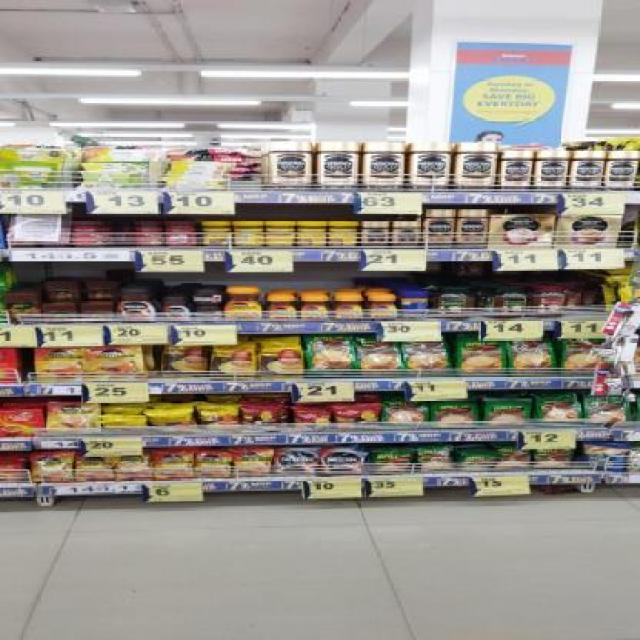Coffee: (269, 140, 314, 191), (455, 142, 497, 190), (318, 140, 359, 189), (364, 141, 404, 190), (33, 347, 84, 382), (90, 347, 142, 381), (413, 142, 449, 190), (46, 403, 99, 434), (570, 150, 605, 192), (223, 286, 262, 322), (118, 287, 157, 322), (499, 151, 532, 192), (607, 150, 639, 192), (534, 150, 566, 190), (458, 209, 487, 248), (321, 448, 364, 474), (31, 454, 71, 481), (278, 448, 317, 475), (425, 210, 453, 247), (153, 452, 192, 478), (77, 454, 114, 481), (197, 452, 232, 478), (236, 451, 270, 477), (117, 454, 151, 480), (366, 294, 397, 320), (362, 220, 390, 248), (162, 294, 189, 321), (267, 295, 296, 320), (334, 295, 363, 320), (300, 295, 329, 320), (393, 221, 419, 248), (193, 290, 222, 305), (194, 307, 221, 322)
